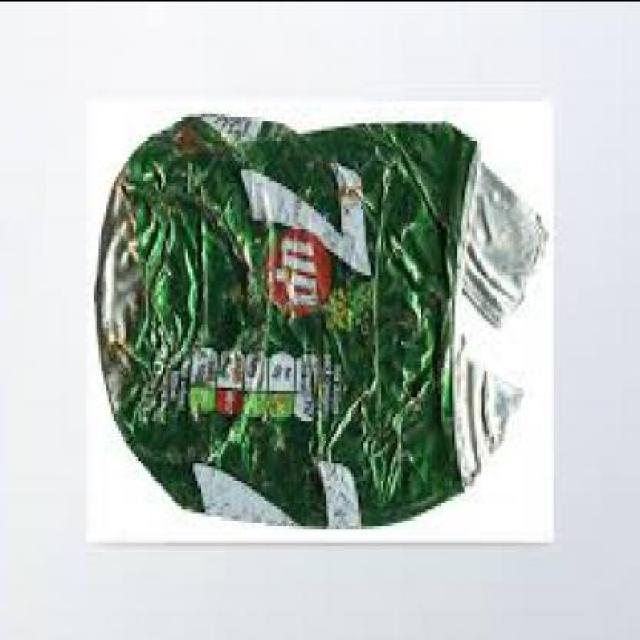METAL: (96, 102, 552, 521)
